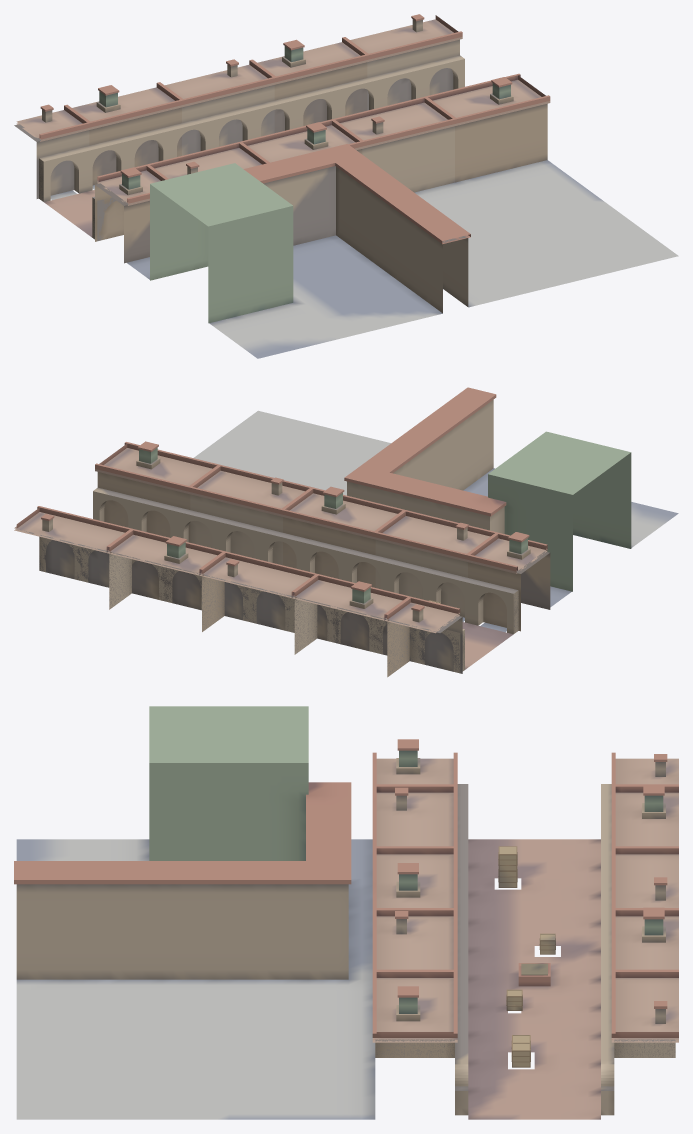
3 views of the same model, one above another, from view 1: azimuth 30°, elevation 25°; view 2: azimuth 150°, elevation 25°; view 3: azimuth 270°, elevation 25° (orthographic). The views are drawn at different scales.
Parts seen in each view (by area): view 1: t; view 2: t; view 3: t.
Boxes of the visible parts, x1,y1,x2,y2 form: t: (14, 14, 678, 358); t: (14, 387, 678, 677); t: (14, 706, 678, 1119).
Bounding box in the file's own units: 50.49 × 11 × 50.08.
